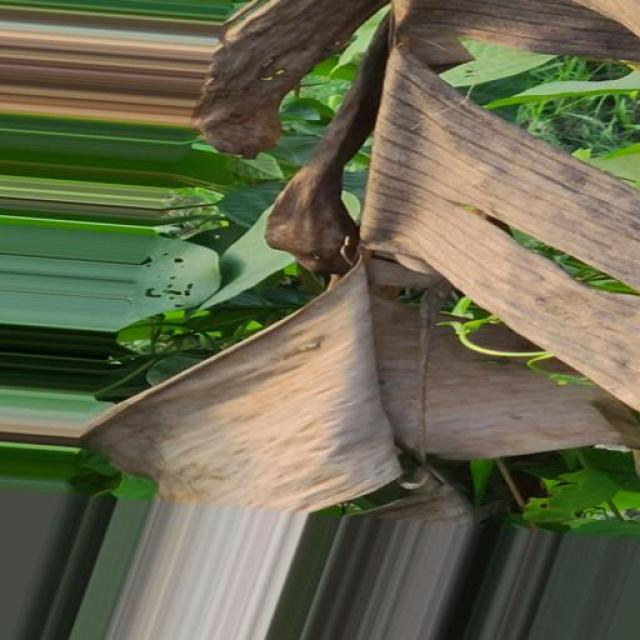Bract_mosaic_virus: (184, 0, 640, 341), (69, 338, 640, 518)
